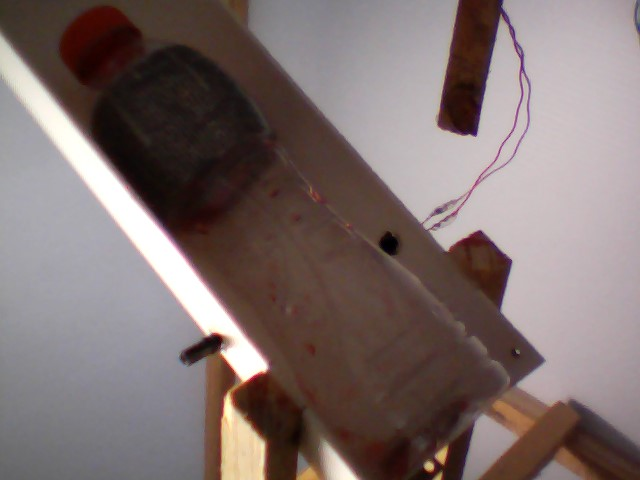plastico: (52, 1, 518, 478)
